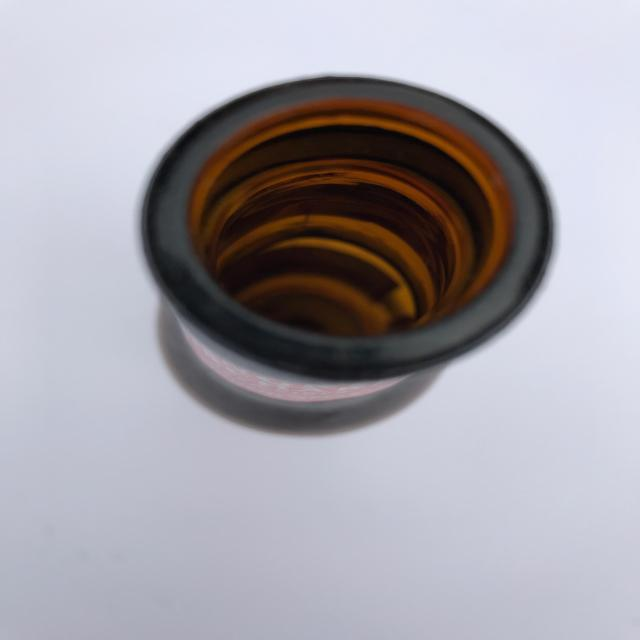glass: (136, 74, 553, 436)
